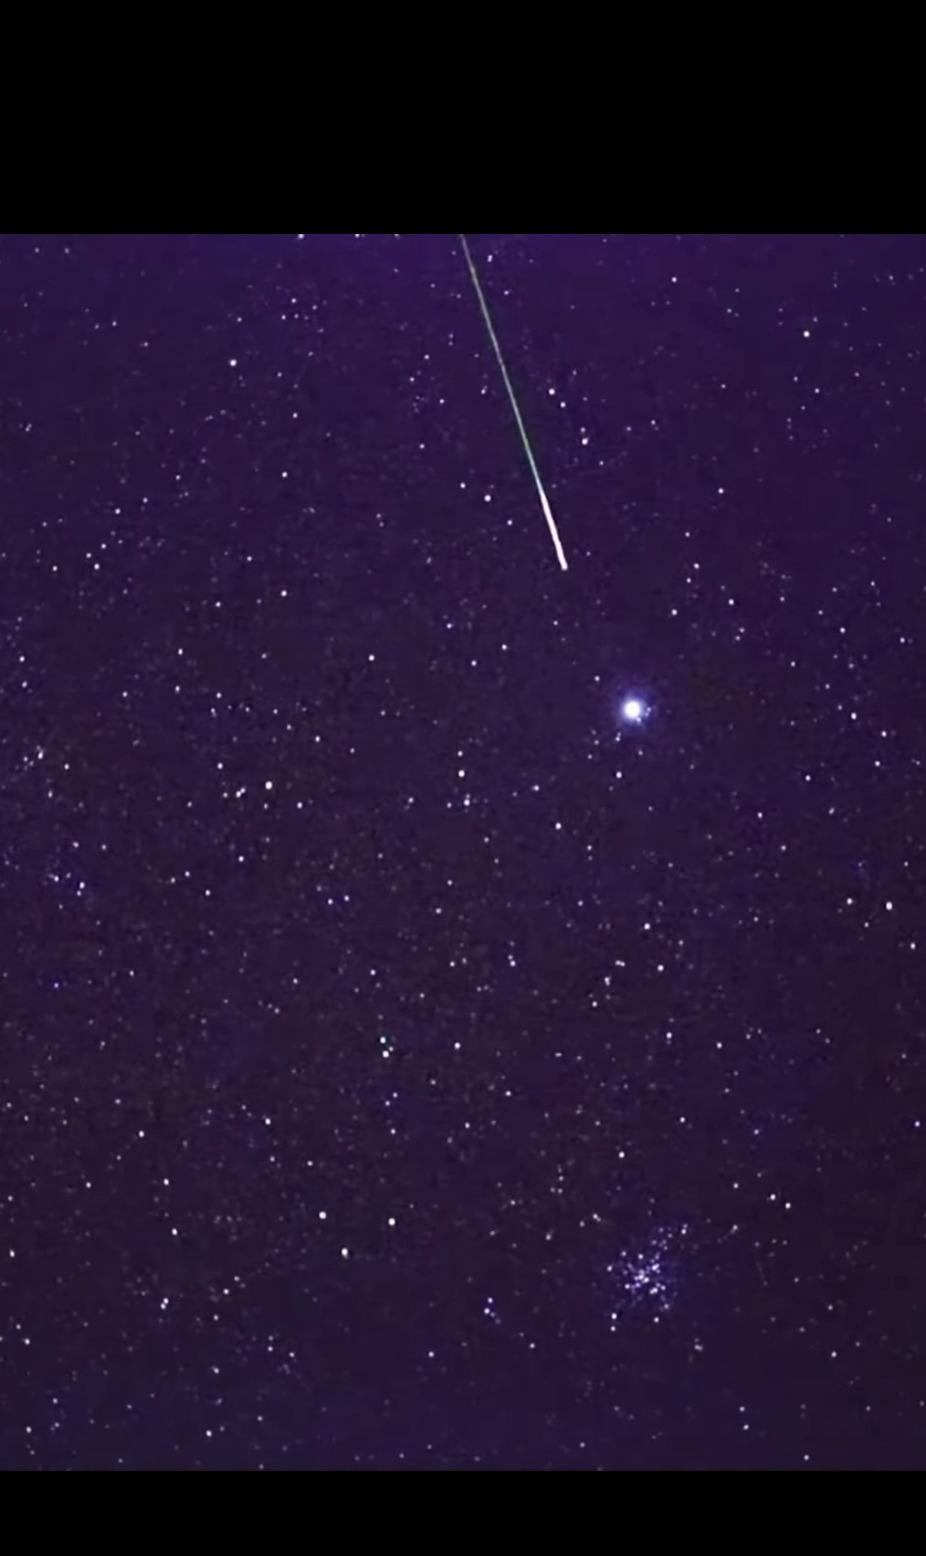meteorite: (469, 233, 582, 583)
